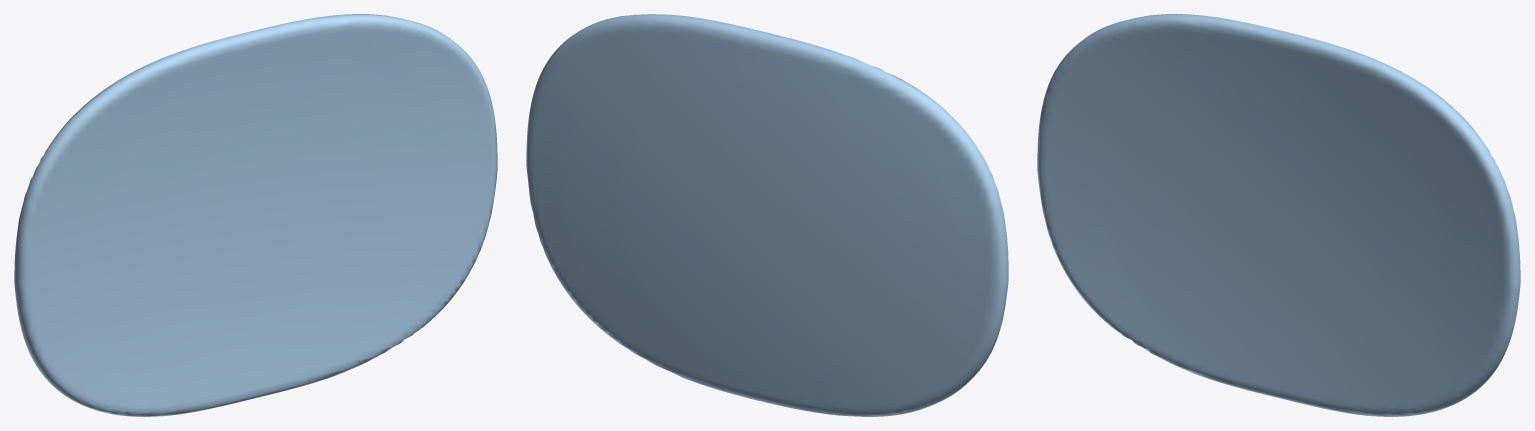
The model's file is 003_left_clear_prescription_lens.glb.
3 renders of one model, left to right at view 1: azimuth 30°, elevation 25°; view 2: azimuth 150°, elevation 25°; view 3: azimuth 330°, elevation 25°, orthographic.
Parts seen in each view (by area): view 1: 003 | Left Clear Prescription Lens; view 2: 003 | Left Clear Prescription Lens; view 3: 003 | Left Clear Prescription Lens.
Part boxes in pixels (box(x1,y1,x2,y2)): 003 | Left Clear Prescription Lens: box(14, 14, 497, 416); 003 | Left Clear Prescription Lens: box(526, 14, 1008, 416); 003 | Left Clear Prescription Lens: box(1037, 14, 1520, 416).
Size of the model in its own units: 0.0518 by 0.0378 by 0.00344.
